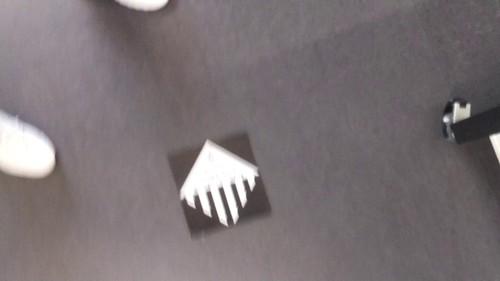misgoods: (170, 145, 266, 225)
